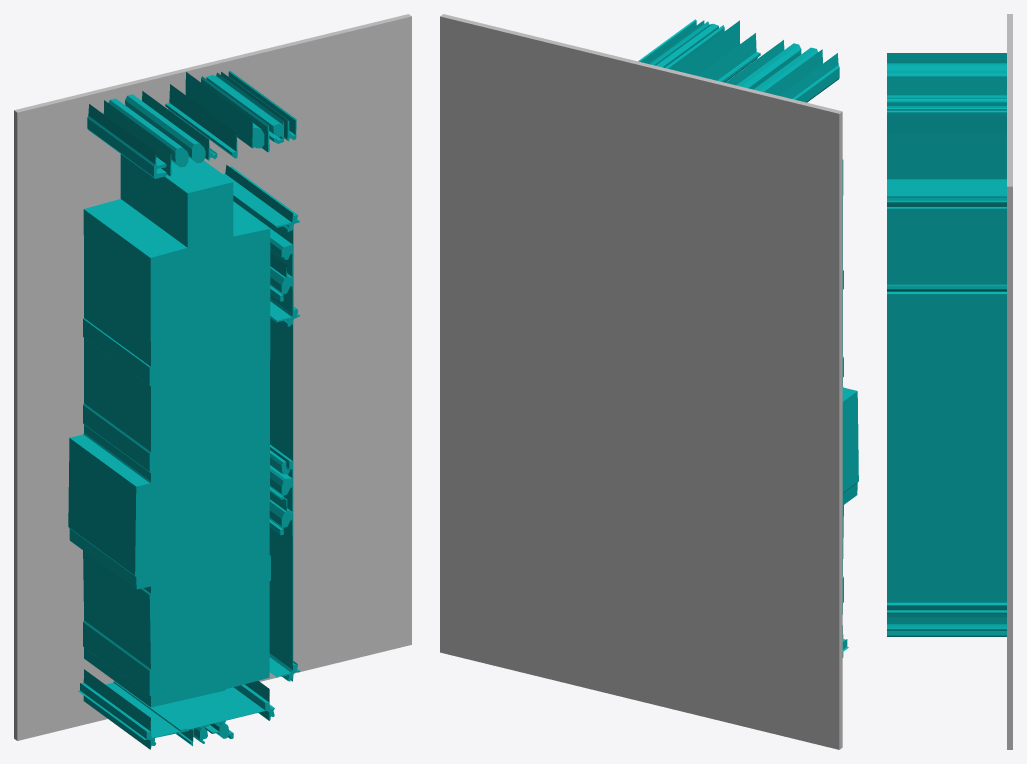
The picture shows the model from 3 angles, left to right: view 1: azimuth 30°, elevation 25°; view 2: azimuth 150°, elevation 25°; view 3: azimuth 270°, elevation 25°; orthographic projection. The views are drawn at different scales.
Visible parts, largest first — view 1: world; view 2: world; view 3: world.
Boxes of the visible parts, x1=… form: world: x1=14, y1=14, x2=411, y2=749; world: x1=440, y1=14, x2=858, y2=749; world: x1=887, y1=14, x2=1012, y2=749.
Size of the model in its own units: 10.23 by 15.57 by 3.15.
